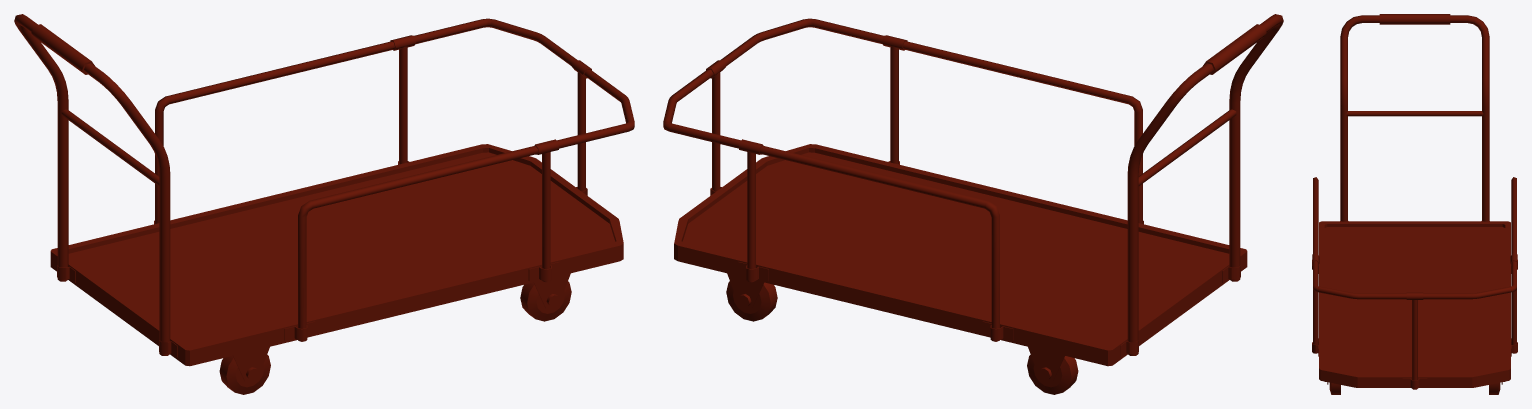
The model's file is trolley2.FBX.
3 views of the same model, side by side, from view 1: azimuth 30°, elevation 25°; view 2: azimuth 150°, elevation 25°; view 3: azimuth 270°, elevation 25° (orthographic). The views are drawn at different scales.
Parts seen in each view (by area): view 1: trolley2; view 2: trolley2; view 3: trolley2.
Part boxes in pixels (left/top/right/bottom): trolley2: left=14, top=14, right=634, bottom=394; trolley2: left=663, top=14, right=1283, bottom=394; trolley2: left=1312, top=14, right=1517, bottom=394.
Bounding box in the file's own units: 167 × 102 × 80.98.
